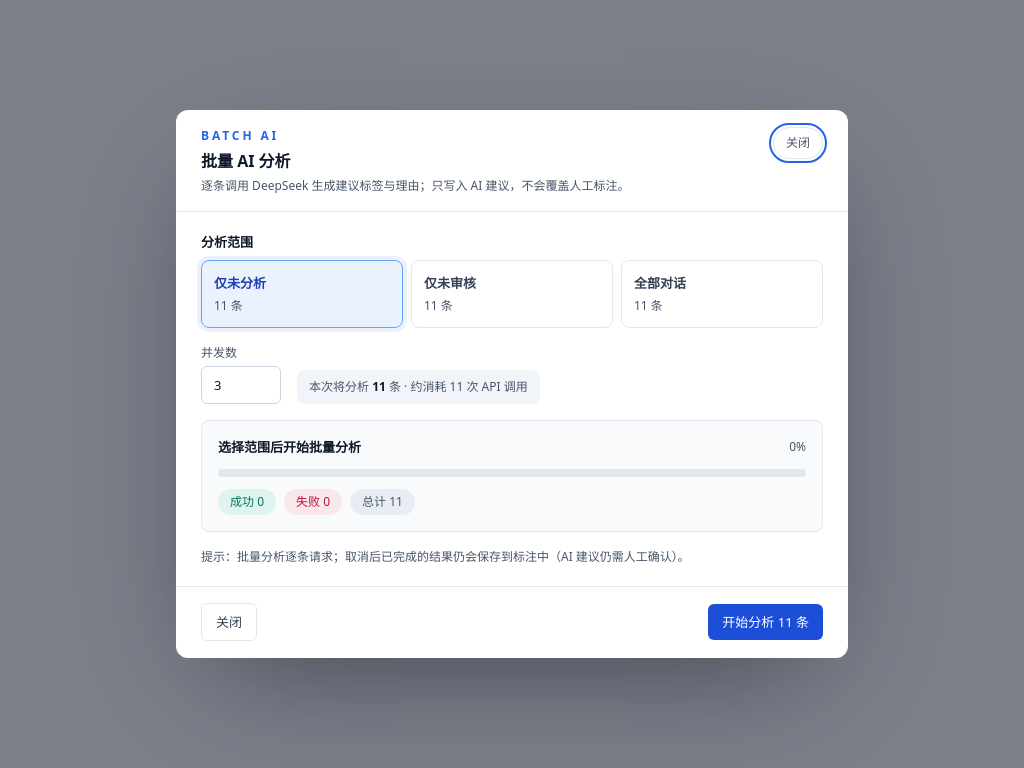
Scenario: BatchAnalysisPanel 分析结果 › 失败条数超过 50 → 失败详情展示前 50 条并标注总数（BUG-17 已修复）
The image size is (1024, 768).
Click the button "开始分析 11 条": (766, 622) x1=708 y1=604 x2=823 y2=640
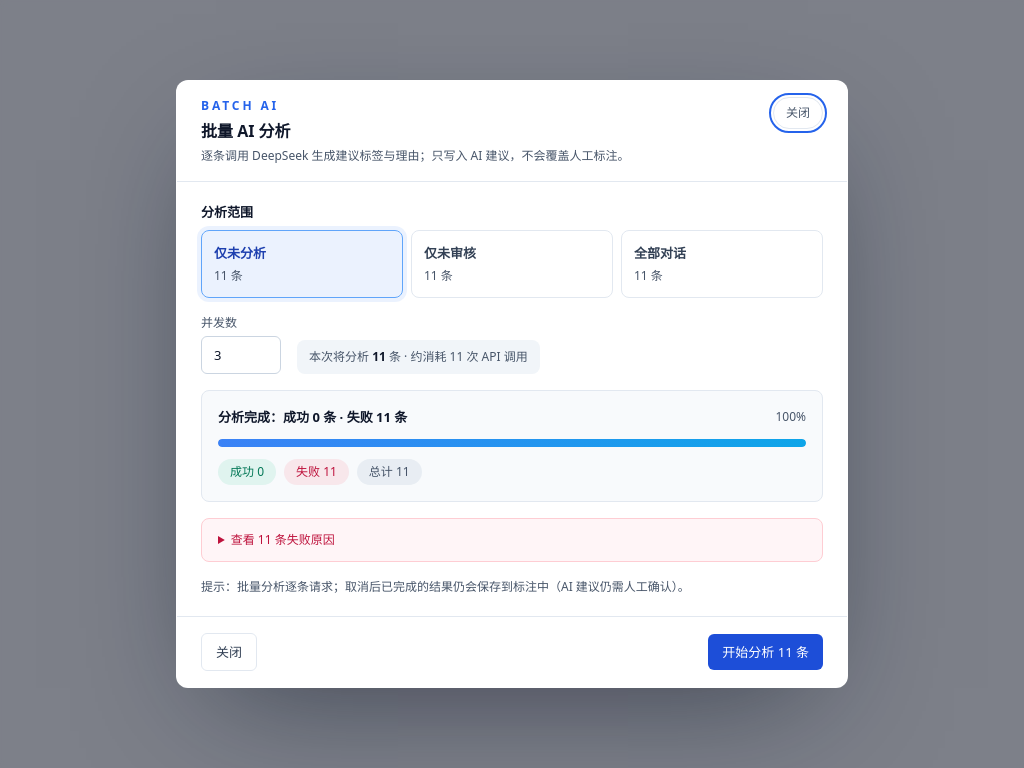
Check: the text "分析完成：成功 0 条 · 失败 11 条" is shown, box x1=218 y1=407 x2=407 y2=427
